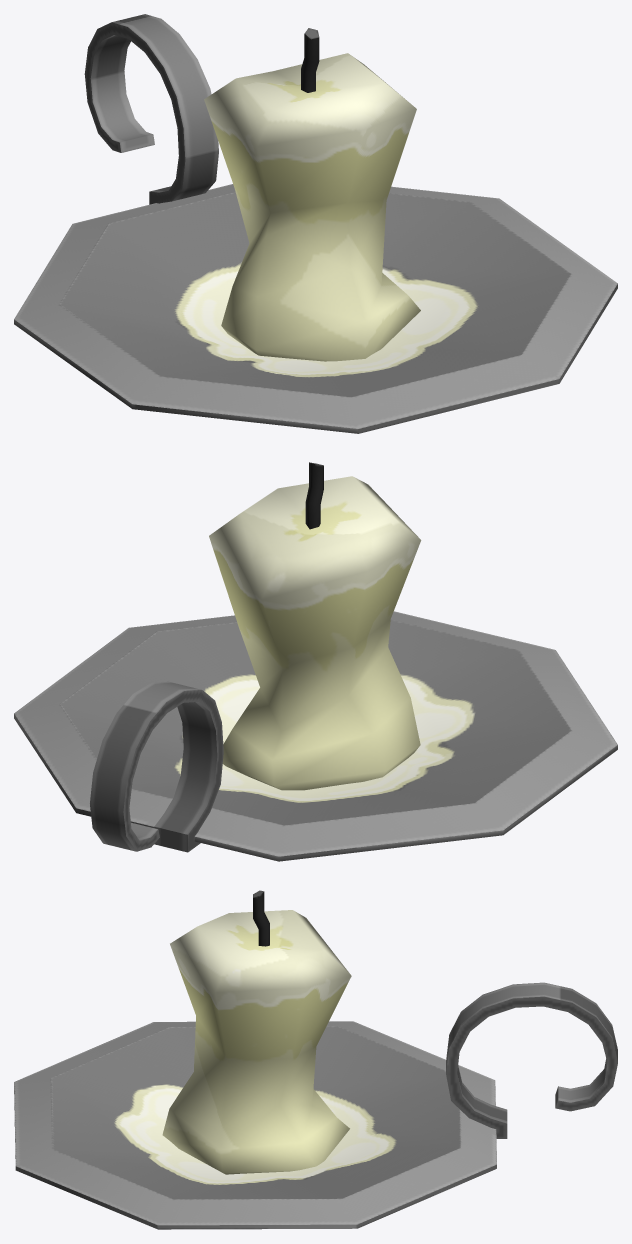
File: candle_floor_complete.fbx
The picture shows the model from 3 angles, top to bottom: view 1: azimuth 30°, elevation 25°; view 2: azimuth 150°, elevation 25°; view 3: azimuth 270°, elevation 25°; orthographic projection. The views are drawn at different scales.
Parts seen in each view (by area): view 1: dish_floor, candle_floor, handle__floor, candle_string_floor; view 2: dish_floor, candle_floor, handle__floor, candle_string_floor; view 3: dish_floor, candle_floor, handle__floor, candle_string_floor.
Boxes of the visible parts, x1,y1,x2,y2 form: dish_floor: (14, 184, 617, 433); candle_floor: (204, 53, 420, 361); handle__floor: (84, 14, 218, 204); candle_string_floor: (301, 28, 319, 92); dish_floor: (14, 611, 617, 861); candle_floor: (209, 476, 421, 790); handle__floor: (90, 681, 223, 852); candle_string_floor: (305, 462, 323, 529); dish_floor: (14, 1021, 496, 1229); candle_floor: (162, 910, 351, 1174); handle__floor: (446, 982, 617, 1138); candle_string_floor: (253, 890, 269, 946).
Size of the model in its own units: 38.24 by 24.07 by 47.81.
